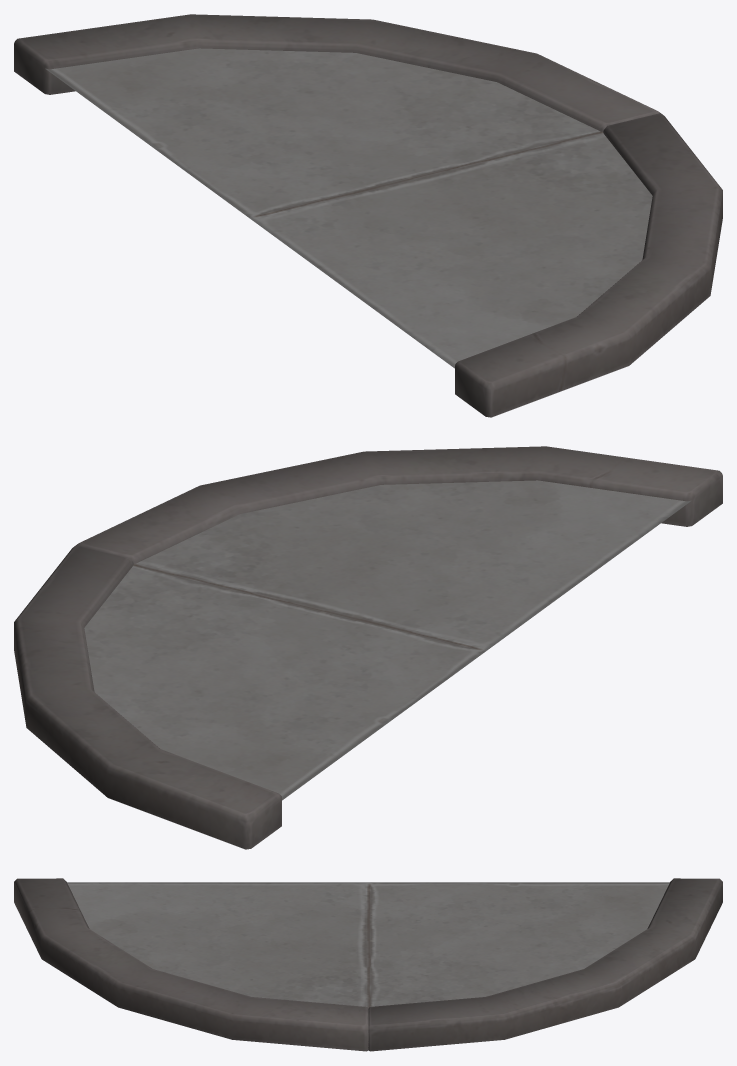
Rendered from SM_Floor_05.glb.
The picture shows the model from 3 angles, top to bottom: view 1: azimuth 30°, elevation 25°; view 2: azimuth 150°, elevation 25°; view 3: azimuth 270°, elevation 25°; orthographic projection. The views are drawn at different scales.
Visible parts, largest first — view 1: SM_Floor_05; view 2: SM_Floor_05; view 3: SM_Floor_05.
Part boxes in pixels (<box>): SM_Floor_05: <box>14,14,722,417</box>; SM_Floor_05: <box>14,446,722,849</box>; SM_Floor_05: <box>14,878,722,1051</box>.
Size of the model in its own units: 0.677 by 0.05 by 1.35.
2 materials, 2 textured.
